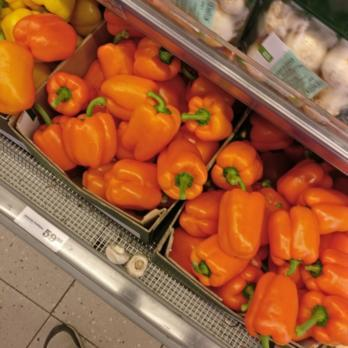Capsicum: (68, 44, 182, 197), (182, 186, 348, 289), (2, 0, 73, 112), (242, 290, 348, 348), (176, 89, 230, 191), (215, 139, 267, 198)
